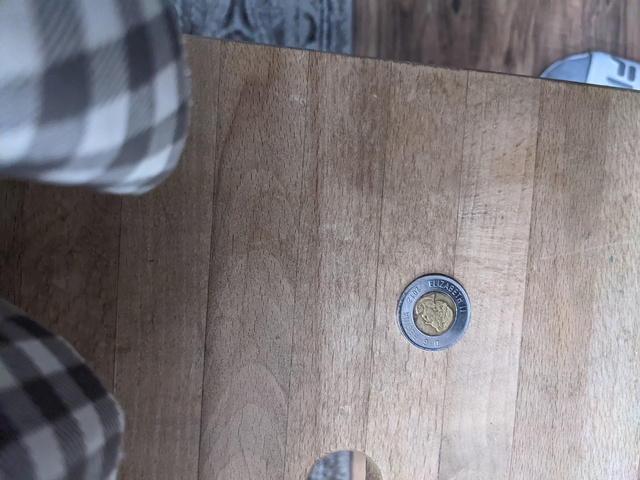twonie: (390, 262, 476, 350)
